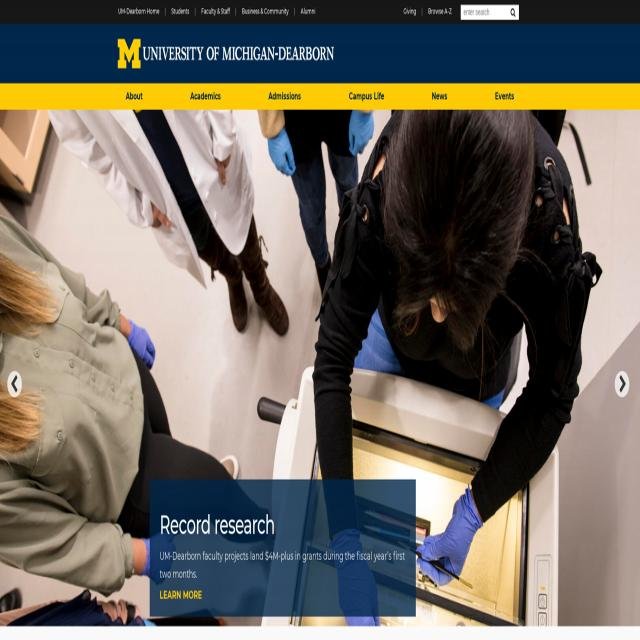button: (118, 39, 334, 68), (341, 84, 392, 110), (261, 84, 309, 110), (183, 84, 229, 110), (487, 84, 522, 110), (118, 84, 150, 110), (424, 84, 456, 110), (615, 371, 629, 397), (8, 371, 22, 397), (510, 6, 516, 17)
field: (461, 4, 519, 20)
